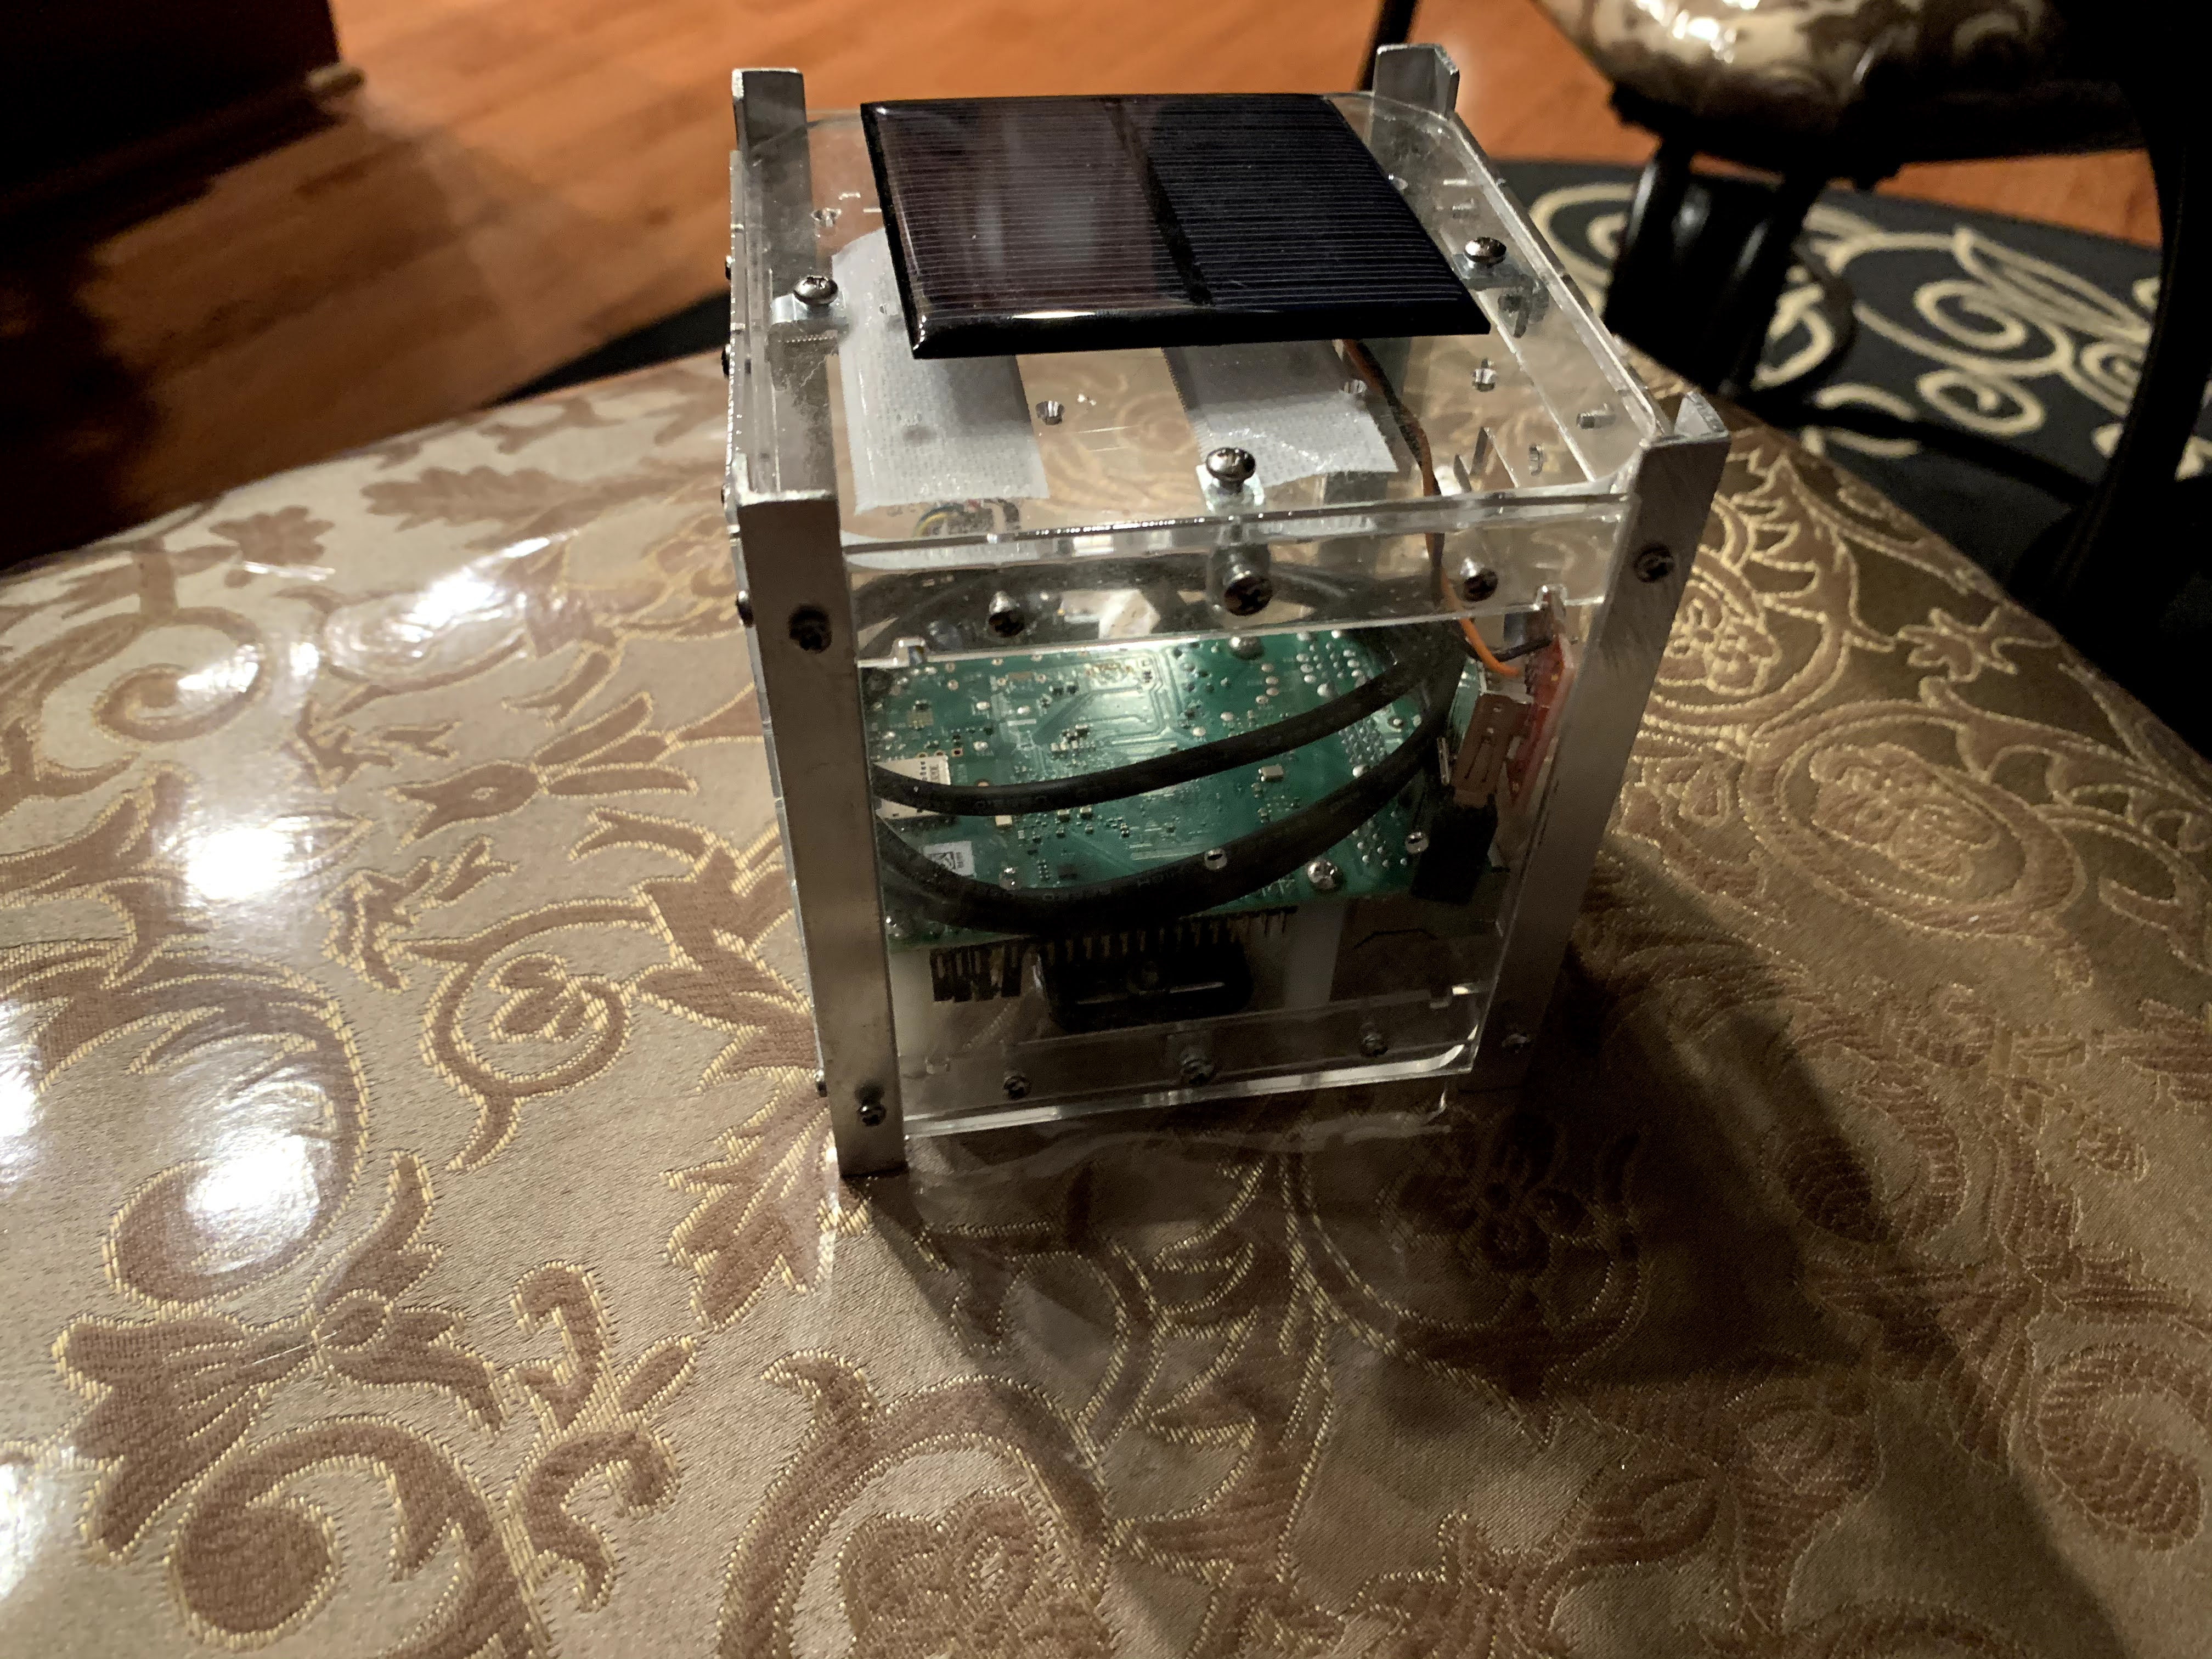Space-debris-cubesat: (702, 35, 1740, 1176)
